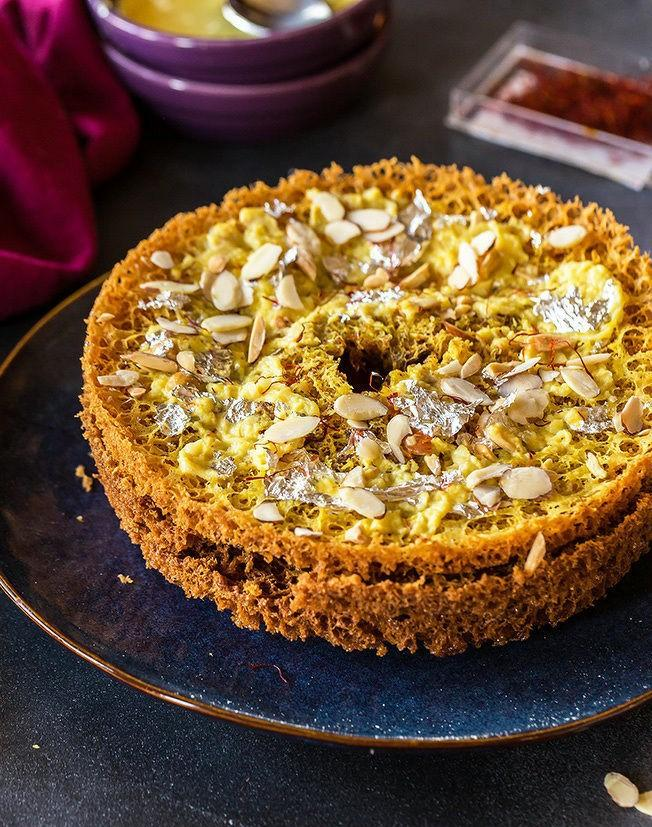Ghevar: (71, 148, 652, 652)
